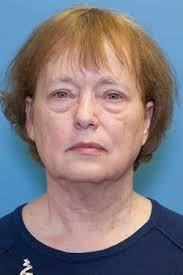normalEye: (44, 73, 133, 114)
strokeMouthWeak: (62, 138, 110, 164)
